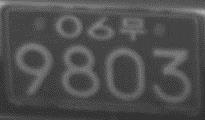0: (104, 45, 145, 101), (54, 13, 84, 40)
3: (152, 46, 191, 105)
6: (87, 14, 115, 42)
8: (60, 43, 101, 99)
9: (14, 42, 55, 96)
무: (119, 15, 146, 41)
